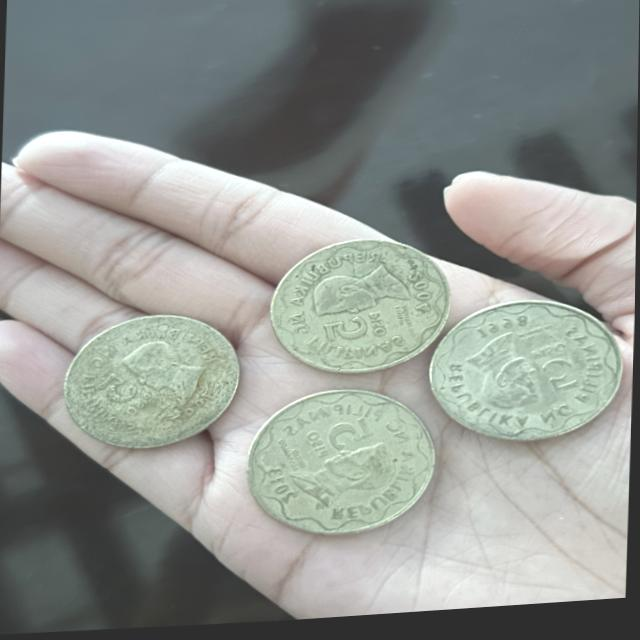5_Old_Front: (425, 295, 628, 456), (242, 384, 432, 539), (267, 232, 453, 385), (66, 309, 244, 455)
